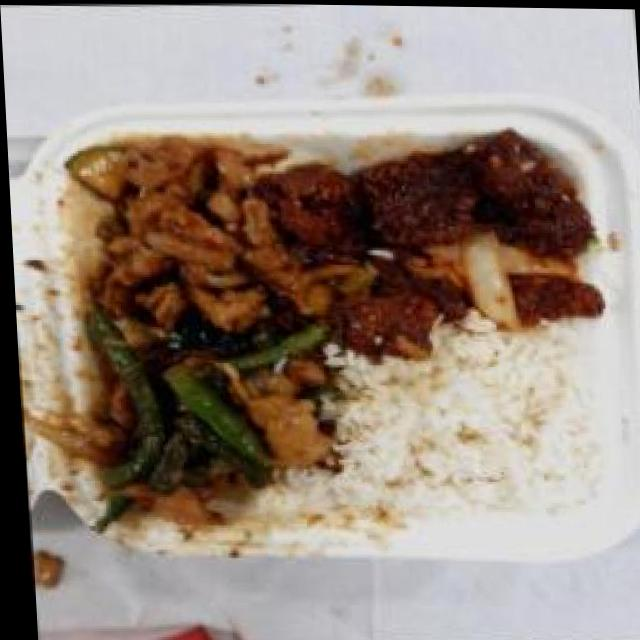Beijing Beef: (290, 126, 607, 343)
Kung Pao Chicken: (58, 129, 332, 355)
String Bean Chicken Breast: (82, 333, 322, 524)
White Steamed Rice: (328, 331, 596, 522)
